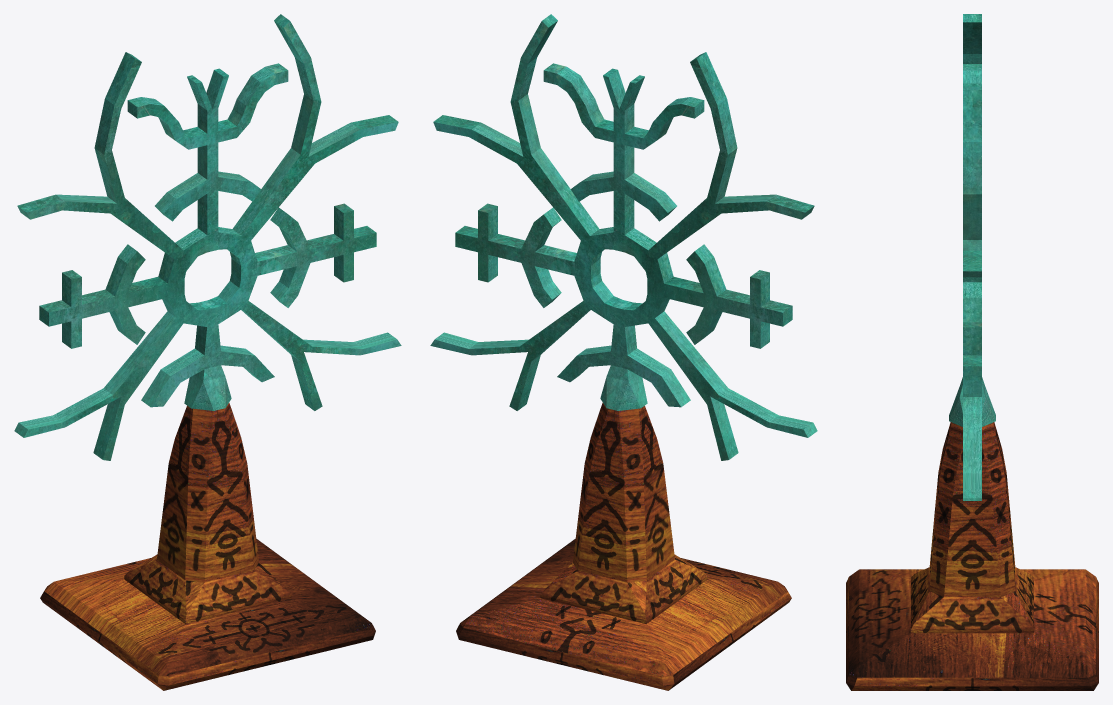
The model's file is auraTotem.glb.
3 renders of one model, left to right at view 1: azimuth 30°, elevation 25°; view 2: azimuth 150°, elevation 25°; view 3: azimuth 270°, elevation 25°, orthographic.
Visible parts, largest first — view 1: Totem; view 2: Totem; view 3: Totem.
Boxes of the visible parts, x1=… form: Totem: x1=14, y1=14, x2=401, y2=690; Totem: x1=430, y1=14, x2=817, y2=690; Totem: x1=846, y1=14, x2=1098, y2=690.
Bounding box in the file's own units: 0.4814 × 0.712 × 0.2777.
Materials: 2 (2 with a texture image).
